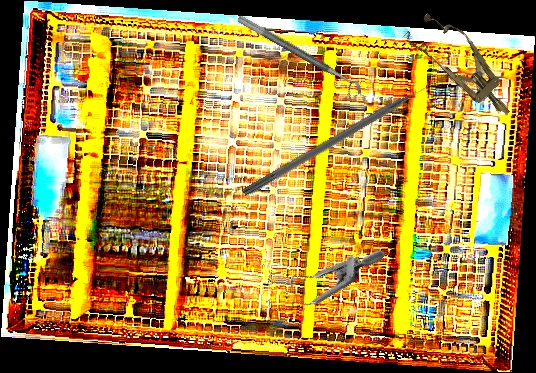Fixation Ring: (230, 14, 367, 104)
Pusher: (240, 74, 446, 200)
Speculum: (252, 205, 386, 346), (401, 3, 526, 131)
